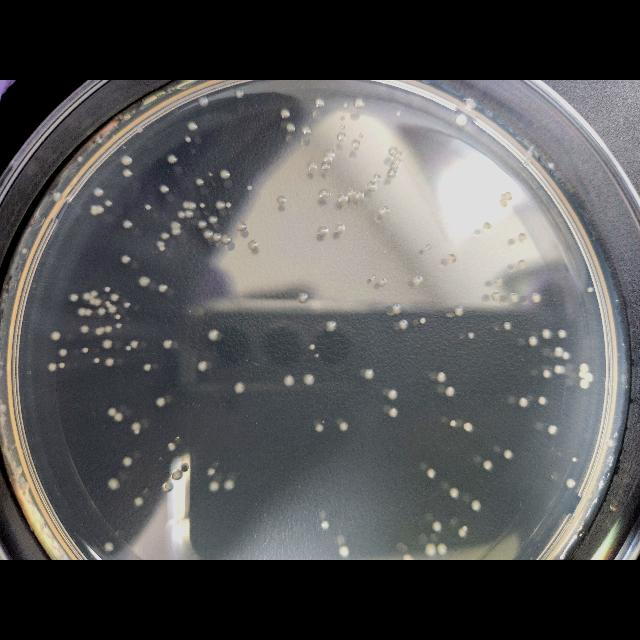colony: (208, 328, 220, 342), (464, 97, 478, 109), (425, 542, 437, 556), (326, 320, 338, 332), (334, 222, 346, 234), (366, 181, 378, 193), (338, 545, 350, 557), (171, 469, 183, 481), (108, 478, 120, 490), (94, 186, 105, 198), (233, 382, 244, 394), (317, 226, 329, 237), (140, 276, 150, 288), (298, 291, 308, 303), (304, 373, 314, 385), (284, 374, 294, 386), (248, 239, 258, 251), (236, 220, 246, 232), (202, 228, 214, 238), (320, 188, 330, 200), (337, 193, 349, 203), (380, 205, 390, 217), (447, 252, 457, 264), (454, 305, 464, 317), (392, 303, 402, 315), (471, 499, 481, 511), (437, 543, 447, 555), (210, 479, 220, 491), (162, 482, 174, 492), (121, 155, 132, 165), (222, 233, 232, 244), (354, 98, 364, 109), (399, 318, 409, 329), (388, 408, 399, 418), (518, 397, 528, 408), (223, 479, 234, 489), (134, 497, 144, 508), (121, 457, 132, 467), (438, 371, 447, 383), (105, 540, 114, 552), (554, 347, 564, 357), (584, 372, 594, 382), (580, 379, 590, 389), (163, 339, 173, 349), (198, 361, 208, 371), (51, 331, 61, 341), (110, 292, 120, 302), (53, 192, 63, 202), (167, 154, 177, 164), (215, 200, 225, 210), (220, 169, 230, 179), (188, 121, 198, 131), (280, 108, 290, 118), (286, 123, 296, 133), (302, 125, 312, 135), (337, 132, 347, 142), (325, 149, 335, 159), (308, 162, 318, 172), (276, 195, 286, 205), (346, 189, 356, 199), (387, 168, 397, 178), (388, 147, 398, 157), (482, 222, 492, 232), (510, 292, 520, 302), (414, 276, 424, 286), (528, 336, 538, 346), (542, 329, 552, 339), (445, 386, 455, 396), (464, 422, 474, 432), (388, 390, 398, 400), (364, 368, 374, 378), (548, 424, 558, 434), (566, 478, 576, 488), (426, 468, 436, 478), (432, 521, 442, 531), (606, 437, 616, 447), (314, 422, 324, 432), (95, 326, 105, 336), (19, 480, 29, 490), (532, 292, 540, 304), (157, 397, 166, 407), (352, 140, 361, 150), (492, 292, 501, 302), (339, 422, 348, 432), (483, 460, 492, 470), (449, 488, 458, 498), (114, 412, 124, 421), (102, 339, 111, 348), (503, 449, 512, 458), (538, 396, 546, 406), (562, 350, 570, 360), (580, 363, 588, 373), (578, 370, 586, 380), (48, 362, 56, 372), (81, 324, 89, 334), (123, 220, 133, 228), (122, 254, 130, 264), (158, 284, 168, 292), (122, 169, 132, 177), (214, 232, 222, 242), (208, 216, 218, 224), (171, 221, 181, 229), (171, 228, 181, 236), (200, 96, 208, 106), (236, 88, 244, 98), (356, 191, 364, 201), (390, 163, 400, 171), (498, 200, 508, 208), (519, 232, 527, 242), (495, 276, 503, 286), (458, 528, 466, 538), (131, 422, 141, 430), (15, 464, 23, 474), (558, 329, 566, 338), (106, 358, 114, 367), (160, 184, 168, 193), (323, 155, 332, 163), (322, 162, 331, 170), (393, 158, 402, 166), (108, 408, 116, 417), (0, 403, 8, 412), (0, 414, 6, 426), (554, 366, 562, 374), (131, 340, 139, 348), (144, 363, 152, 371), (59, 348, 67, 356), (109, 305, 117, 313), (98, 307, 106, 315), (70, 293, 78, 301), (157, 240, 165, 248), (161, 232, 169, 240), (96, 206, 104, 214), (198, 220, 206, 228), (196, 178, 204, 186), (186, 209, 194, 217), (178, 210, 186, 218), (316, 98, 324, 106), (373, 174, 381, 182), (395, 152, 403, 160), (498, 193, 506, 201), (517, 260, 525, 268), (504, 322, 512, 330), (322, 521, 330, 529), (207, 468, 215, 476), (168, 443, 176, 451), (105, 325, 113, 333), (136, 126, 144, 134), (506, 191, 512, 201), (122, 114, 132, 120), (78, 308, 85, 316), (95, 297, 102, 305), (90, 210, 98, 217), (183, 201, 190, 209), (190, 202, 197, 210), (379, 278, 386, 286), (105, 200, 112, 207), (449, 419, 456, 426), (544, 370, 550, 378), (86, 308, 92, 316), (84, 292, 90, 300), (90, 297, 96, 305), (420, 316, 426, 324), (22, 248, 28, 255), (94, 357, 100, 363), (59, 362, 65, 368), (116, 323, 122, 329), (125, 302, 131, 308), (105, 286, 111, 292), (92, 290, 98, 296), (145, 204, 151, 210), (185, 136, 191, 142), (309, 344, 315, 350), (226, 202, 232, 208), (200, 202, 206, 208), (426, 244, 432, 250), (468, 332, 474, 338), (462, 524, 468, 530), (98, 138, 104, 144), (59, 552, 65, 558), (78, 154, 82, 162), (588, 288, 594, 292), (126, 346, 132, 350), (116, 314, 120, 320), (160, 246, 164, 252), (92, 204, 96, 210), (248, 184, 252, 190), (208, 172, 214, 176), (342, 104, 348, 108), (340, 124, 344, 130), (134, 430, 140, 434), (84, 348, 88, 352), (106, 300, 110, 304), (108, 304, 112, 308), (315, 354, 319, 358), (397, 112, 401, 116), (359, 133, 363, 137), (466, 177, 470, 181), (372, 276, 376, 280), (573, 458, 577, 462), (20, 476, 24, 480)
